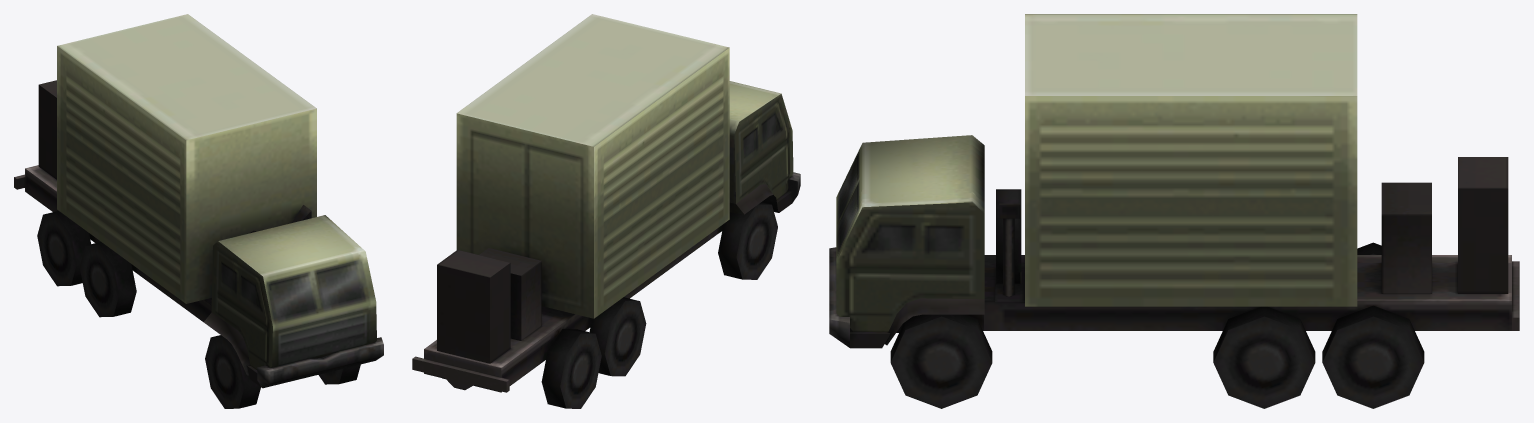
The model's file is RPRSYS.DAE.
3 views of the same model, side by side, from view 1: azimuth 30°, elevation 25°; view 2: azimuth 150°, elevation 25°; view 3: azimuth 270°, elevation 25° (orthographic). The views are drawn at different scales.
Visible parts, largest first — view 1: _1137_RPRSYS; view 2: _1137_RPRSYS; view 3: _1137_RPRSYS.
Boxes of the visible parts, x1=… form: _1137_RPRSYS: x1=14, y1=14, x2=383, y2=408; _1137_RPRSYS: x1=412, y1=14, x2=800, y2=408; _1137_RPRSYS: x1=829, y1=14, x2=1519, y2=408.
Size of the model in its own units: 69.27 by 125 by 246.
1 material, 1 textured.
